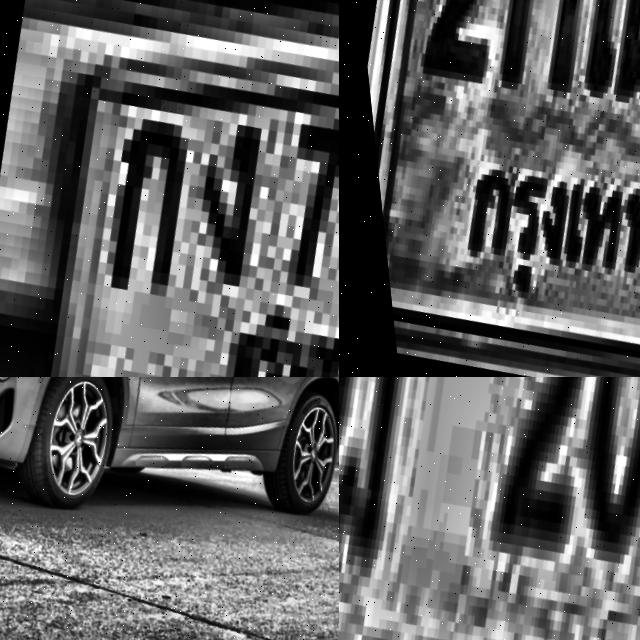license-plate: (0, 0, 339, 377), (339, 0, 640, 377), (339, 377, 640, 640)
